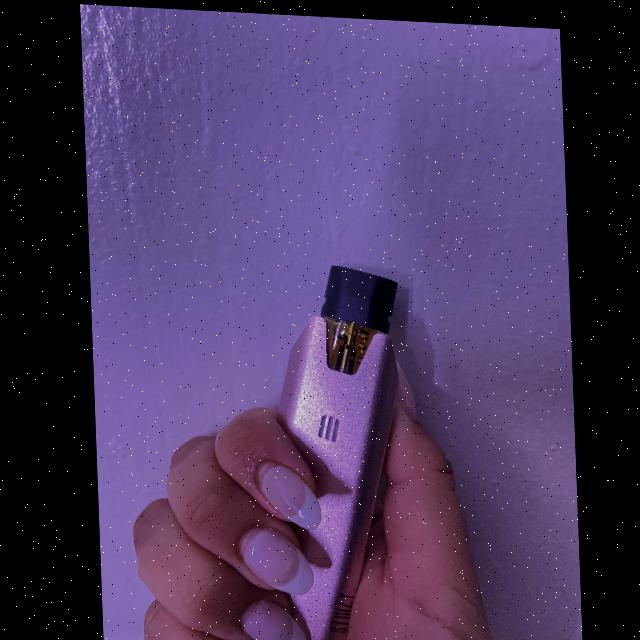vape: (224, 255, 406, 640)
